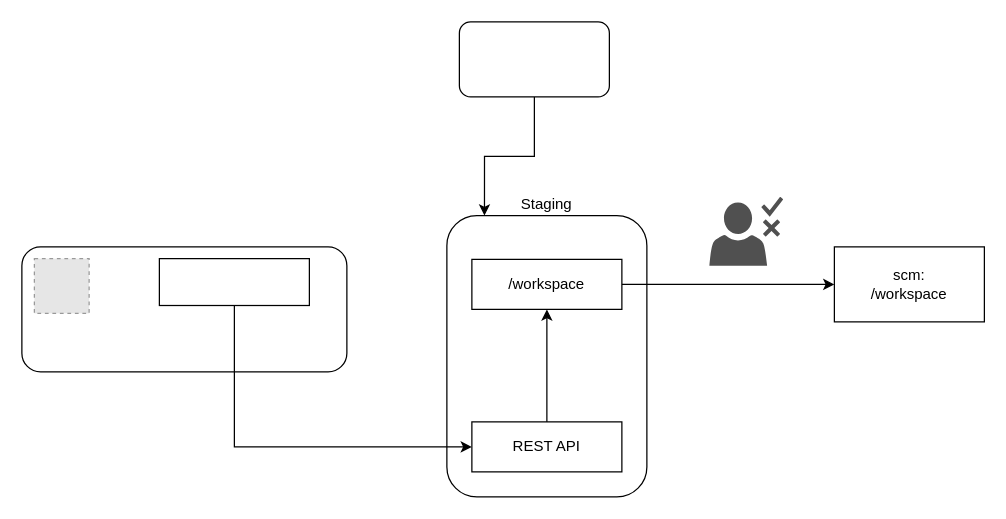
The diagram is 1006 pixels wide and 519 high, and some of its shapes have lost their labels. Grey dashed boxes stand in for pictures. Here are the shapes that lost their labels. From the top down, the centre of each, then its label:
At (x=533, y=59): "CTP".
At (x=233, y=281): "custom library".
